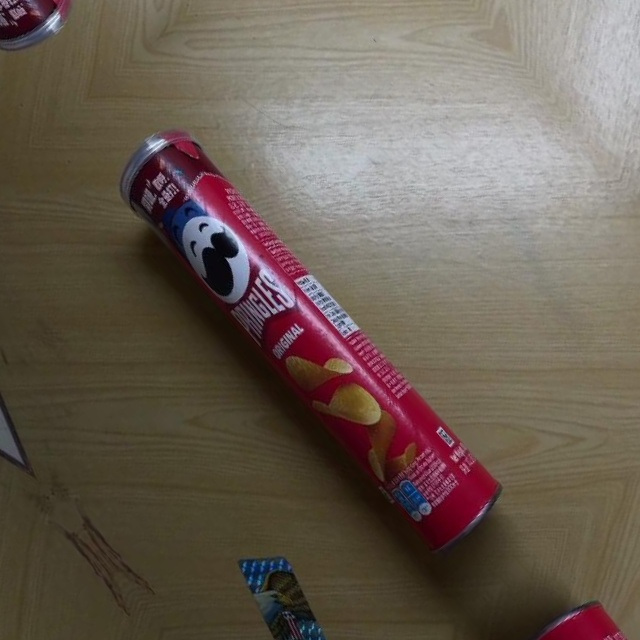Pringles: (100, 108, 511, 567)
